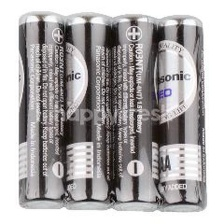battery: (58, 10, 115, 212), (153, 11, 209, 213), (13, 9, 69, 210), (107, 11, 160, 213)
